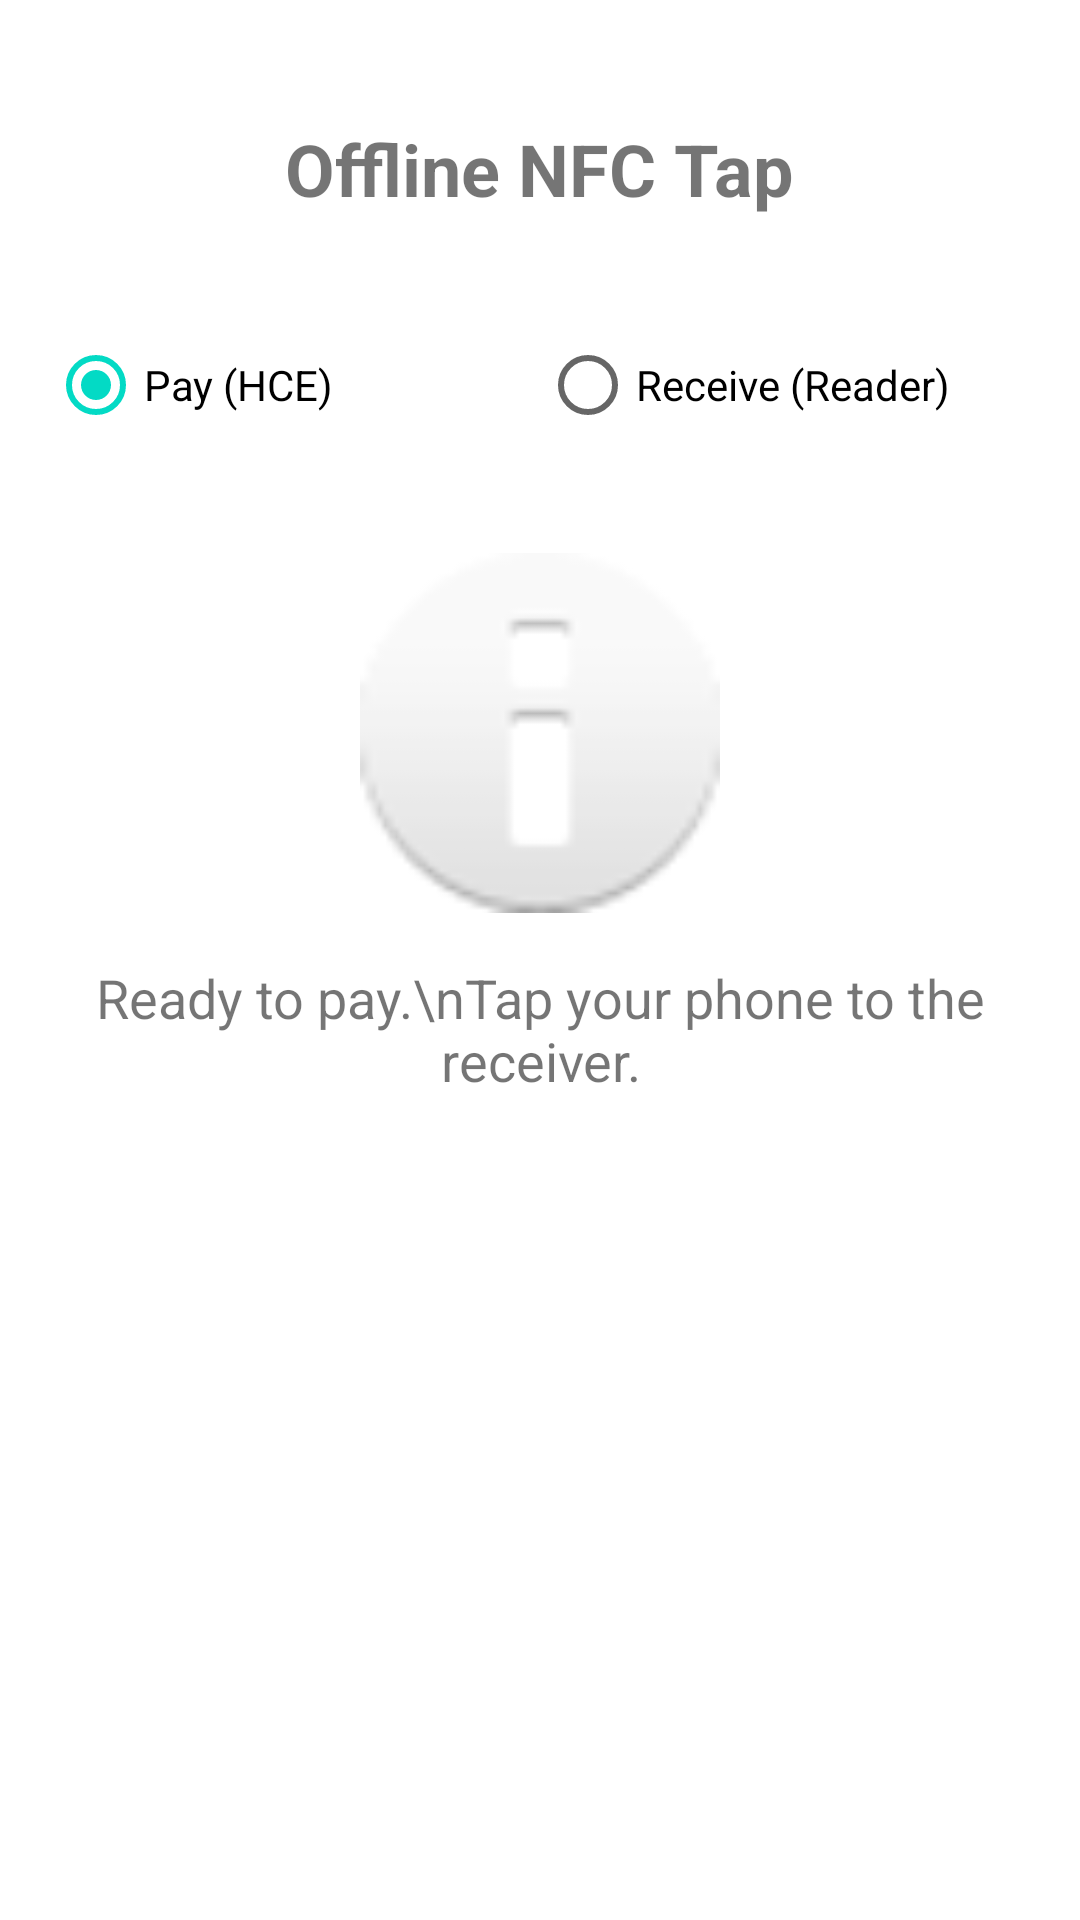

Icons on this 1080 × 1920 Android screen, each with its box as (x1, y1, x2, y2):
info: (360, 619, 720, 913)
